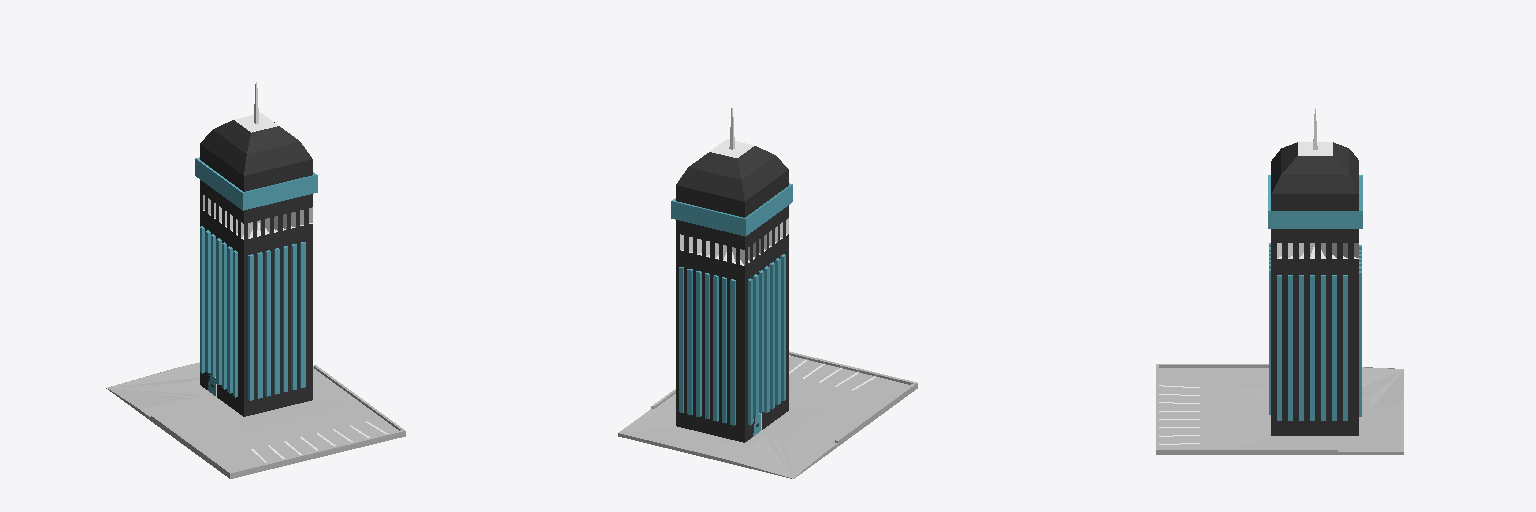
The model's file is skyscraper1.obj.
3 renders of one model, left to right at view 1: azimuth 30°, elevation 25°; view 2: azimuth 150°, elevation 25°; view 3: azimuth 270°, elevation 25°, orthographic.
Visible parts, largest first — view 1: Cube.001; view 2: Cube.001; view 3: Cube.001.
Boxes of the visible parts, x1,y1,x2,y2 form: Cube.001: [106, 82, 405, 478]; Cube.001: [618, 108, 917, 478]; Cube.001: [1156, 108, 1403, 454].
Size of the model in its own units: 10.37 by 17.67 by 12.71.